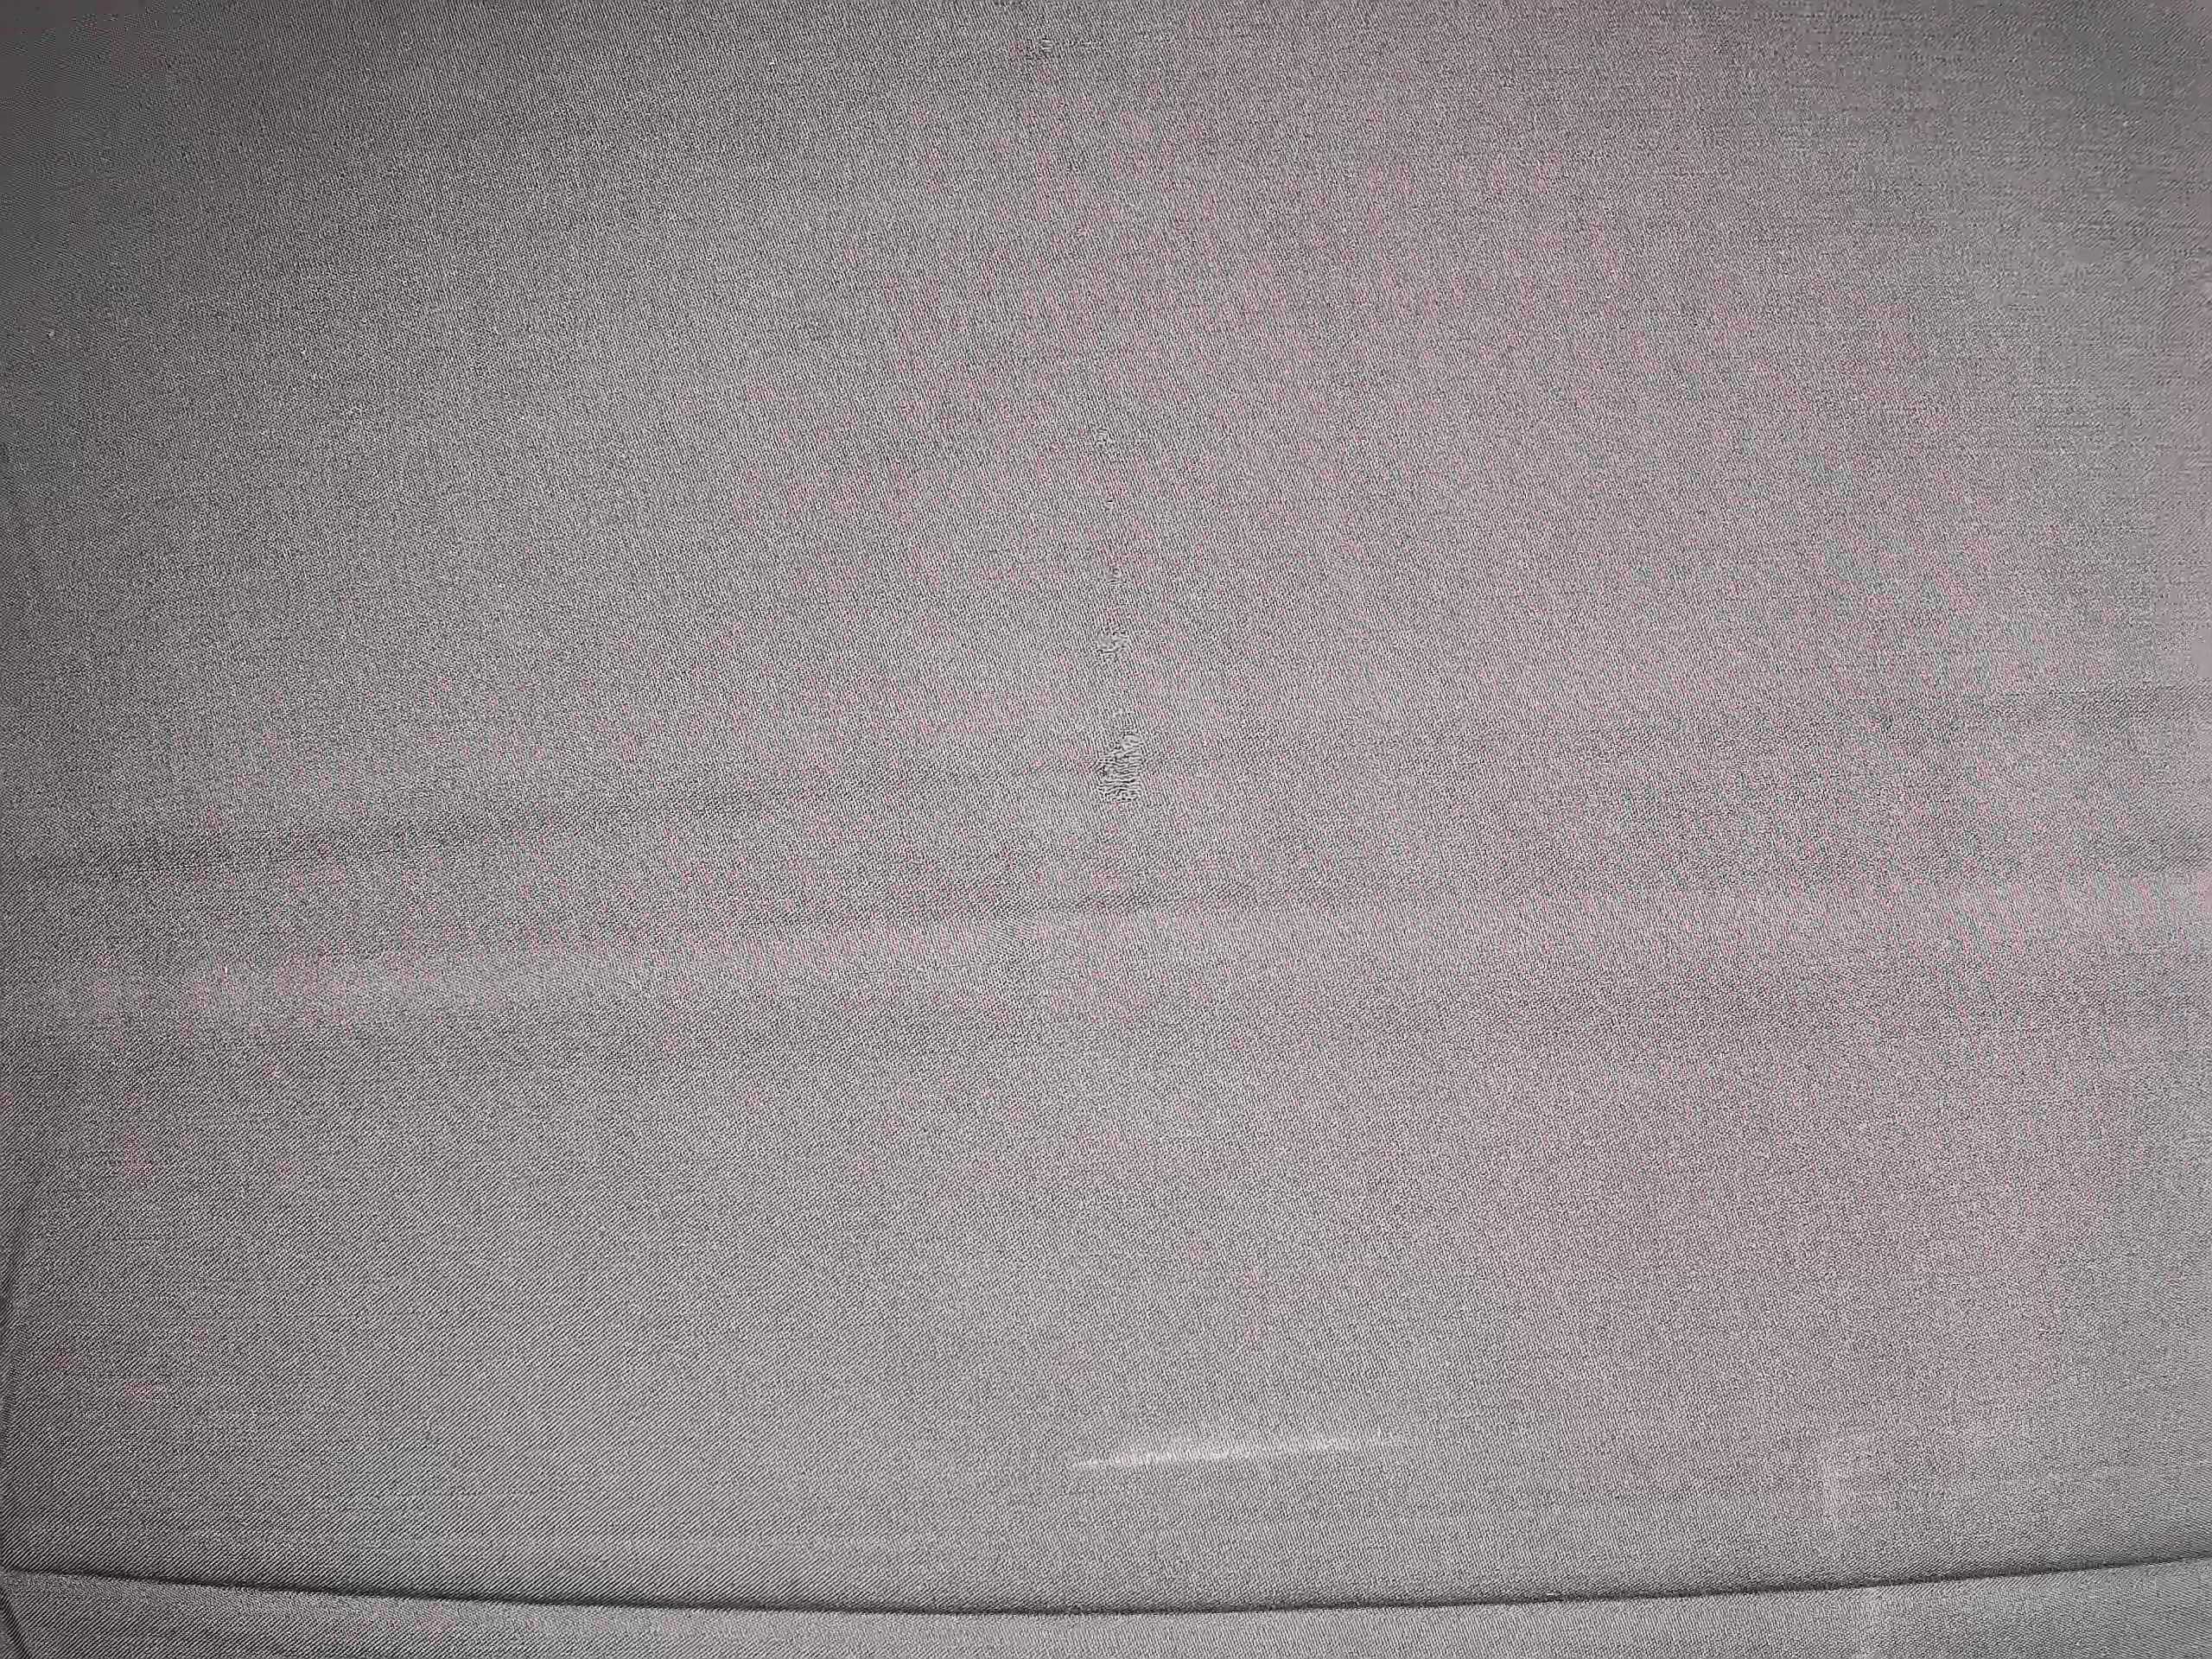puncture-hole: (1068, 664, 1169, 887)
